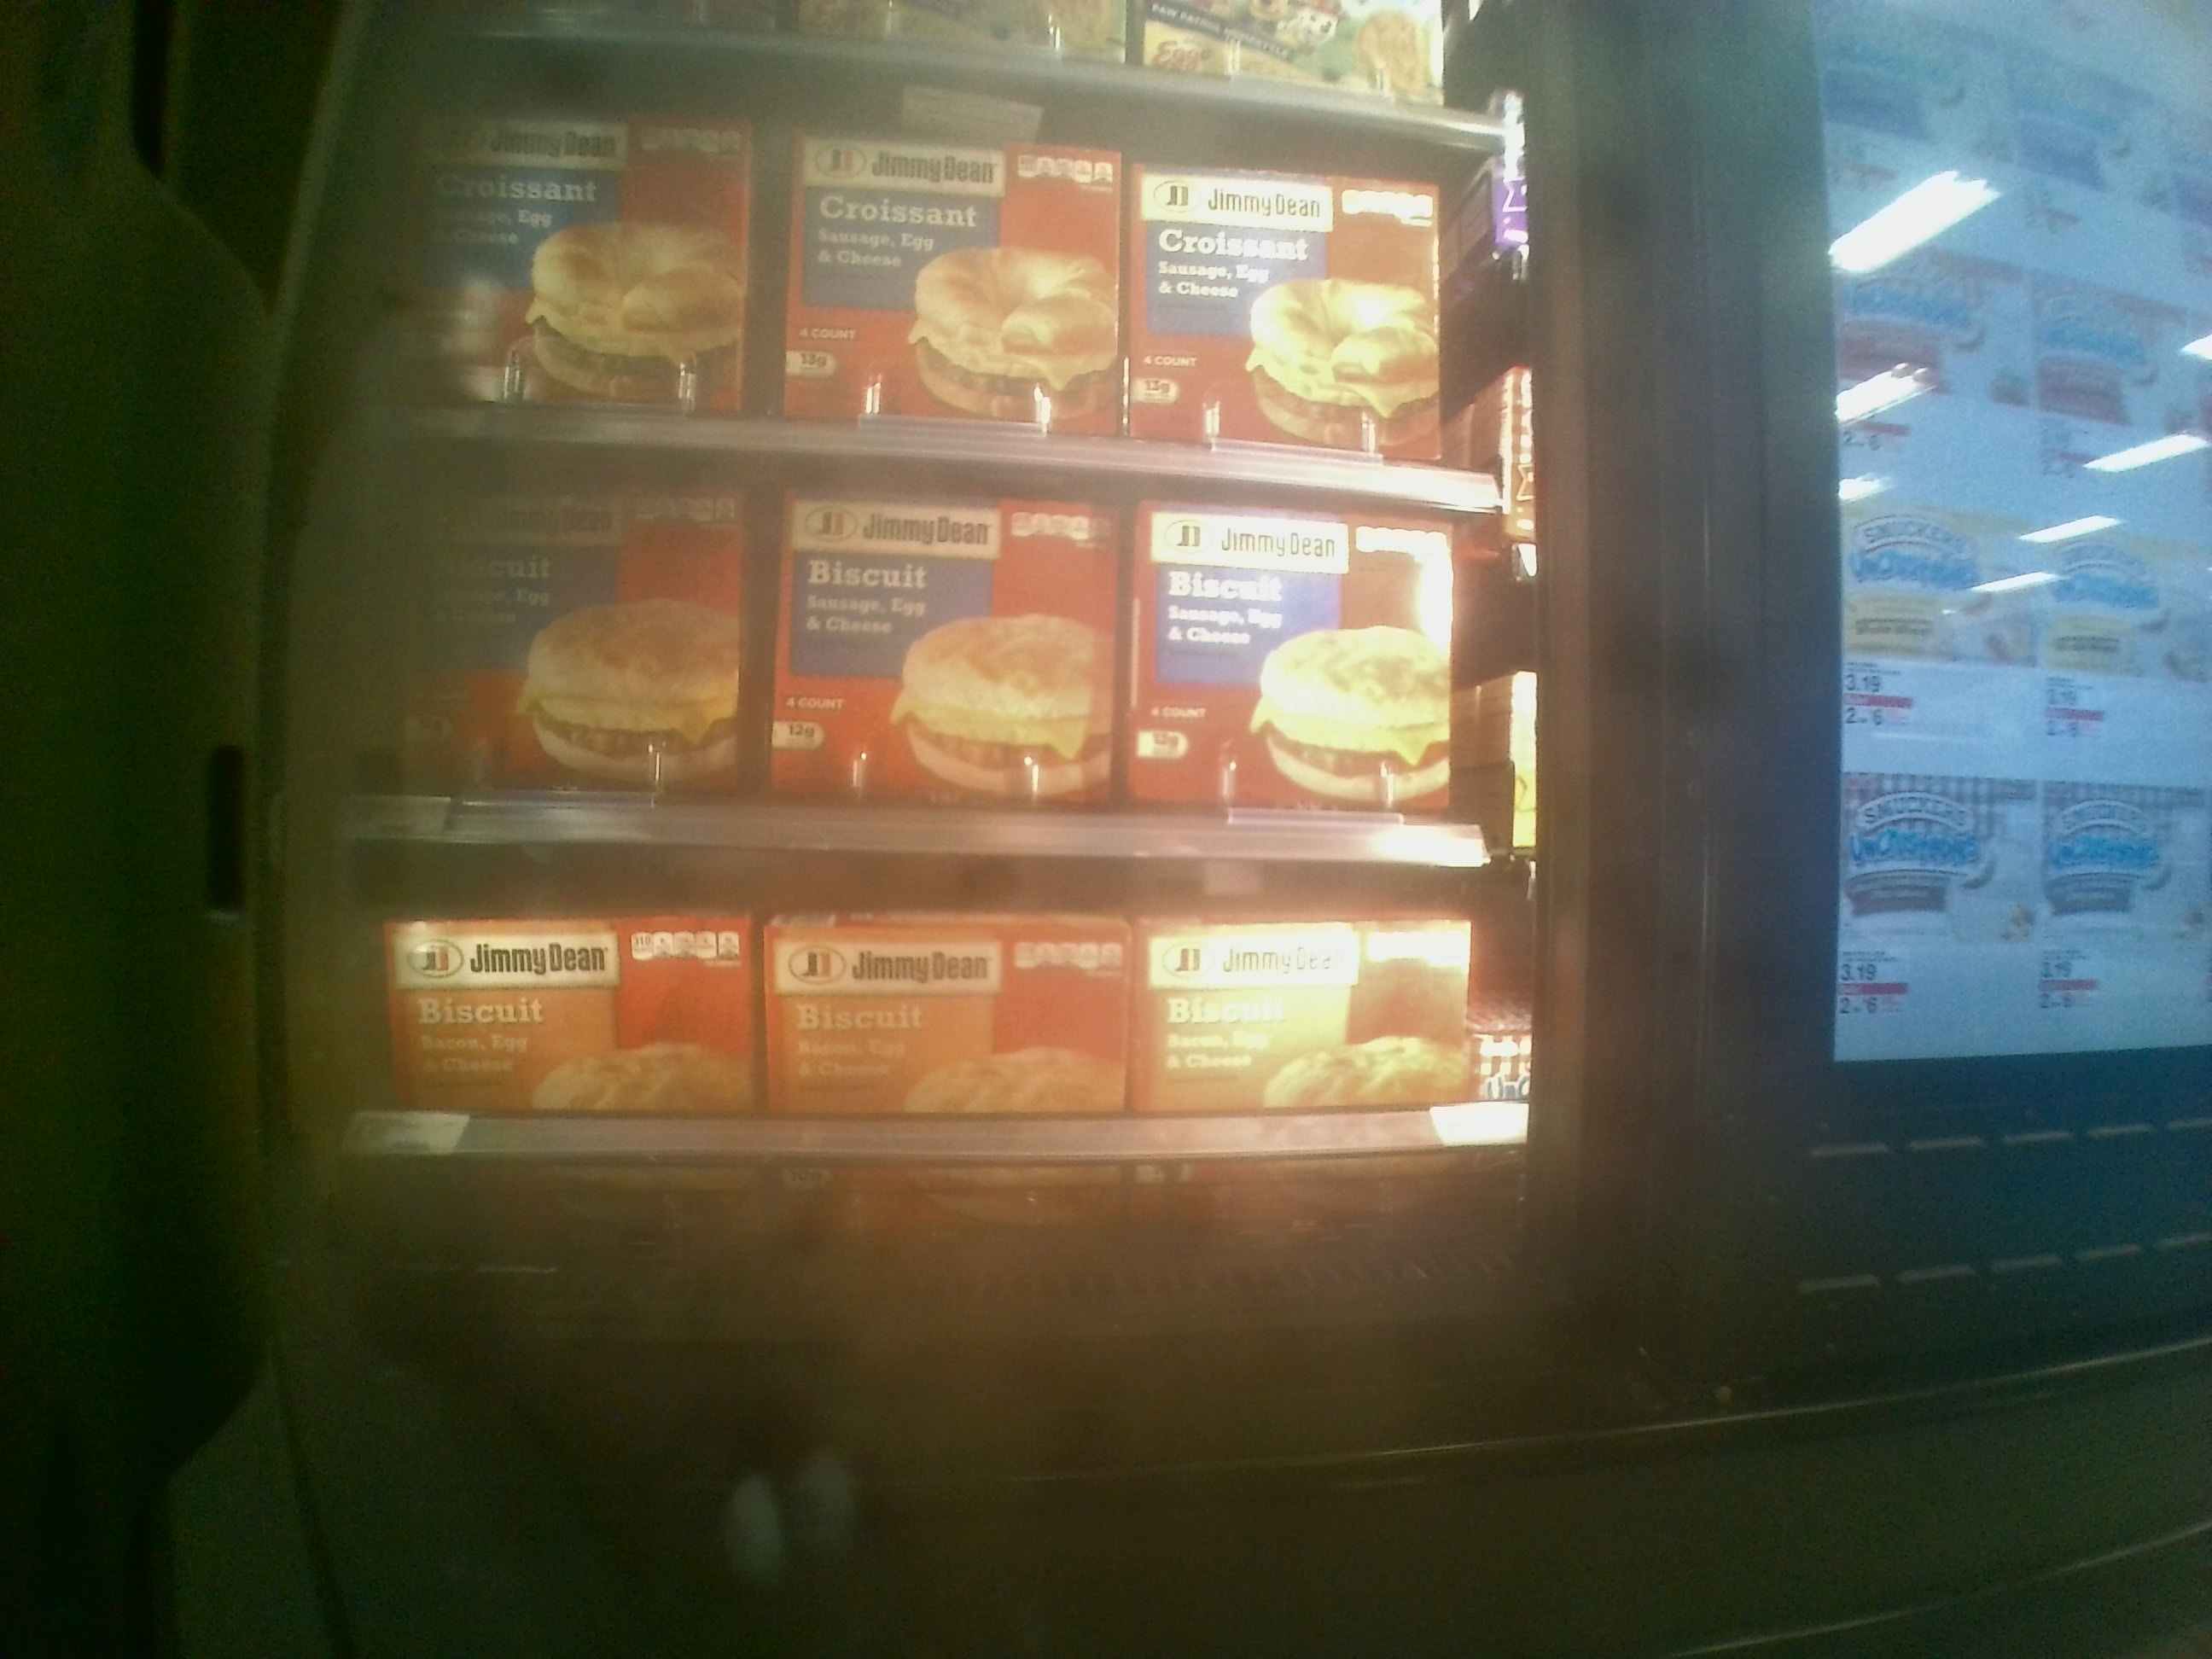shelf: (359, 430, 1521, 868), (340, 836, 1543, 1248)
